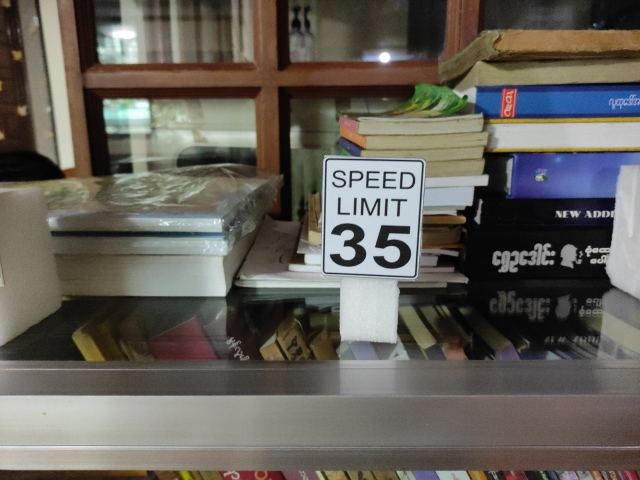Speed Limit 35: (320, 155, 426, 278)
